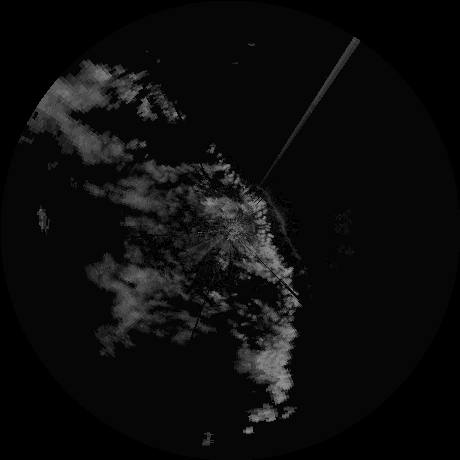frontgust: (258, 184, 300, 262)
